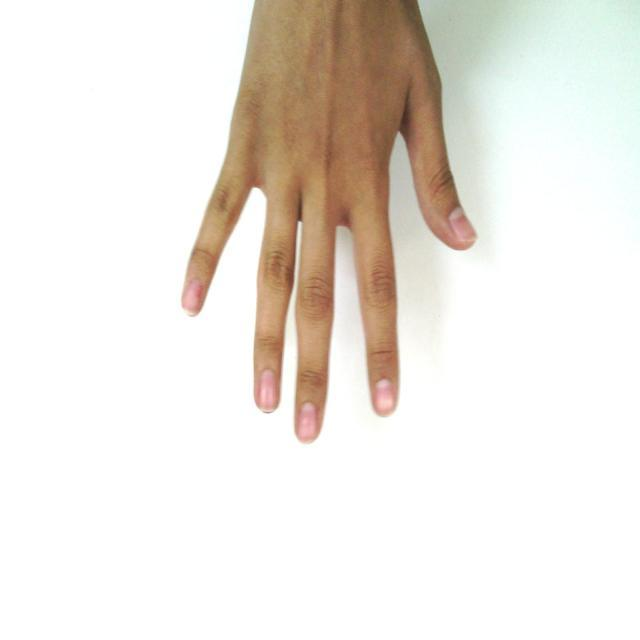Fingernail: (450, 209, 476, 242), (259, 369, 277, 413), (298, 402, 318, 441), (375, 380, 394, 413), (183, 281, 200, 315)
